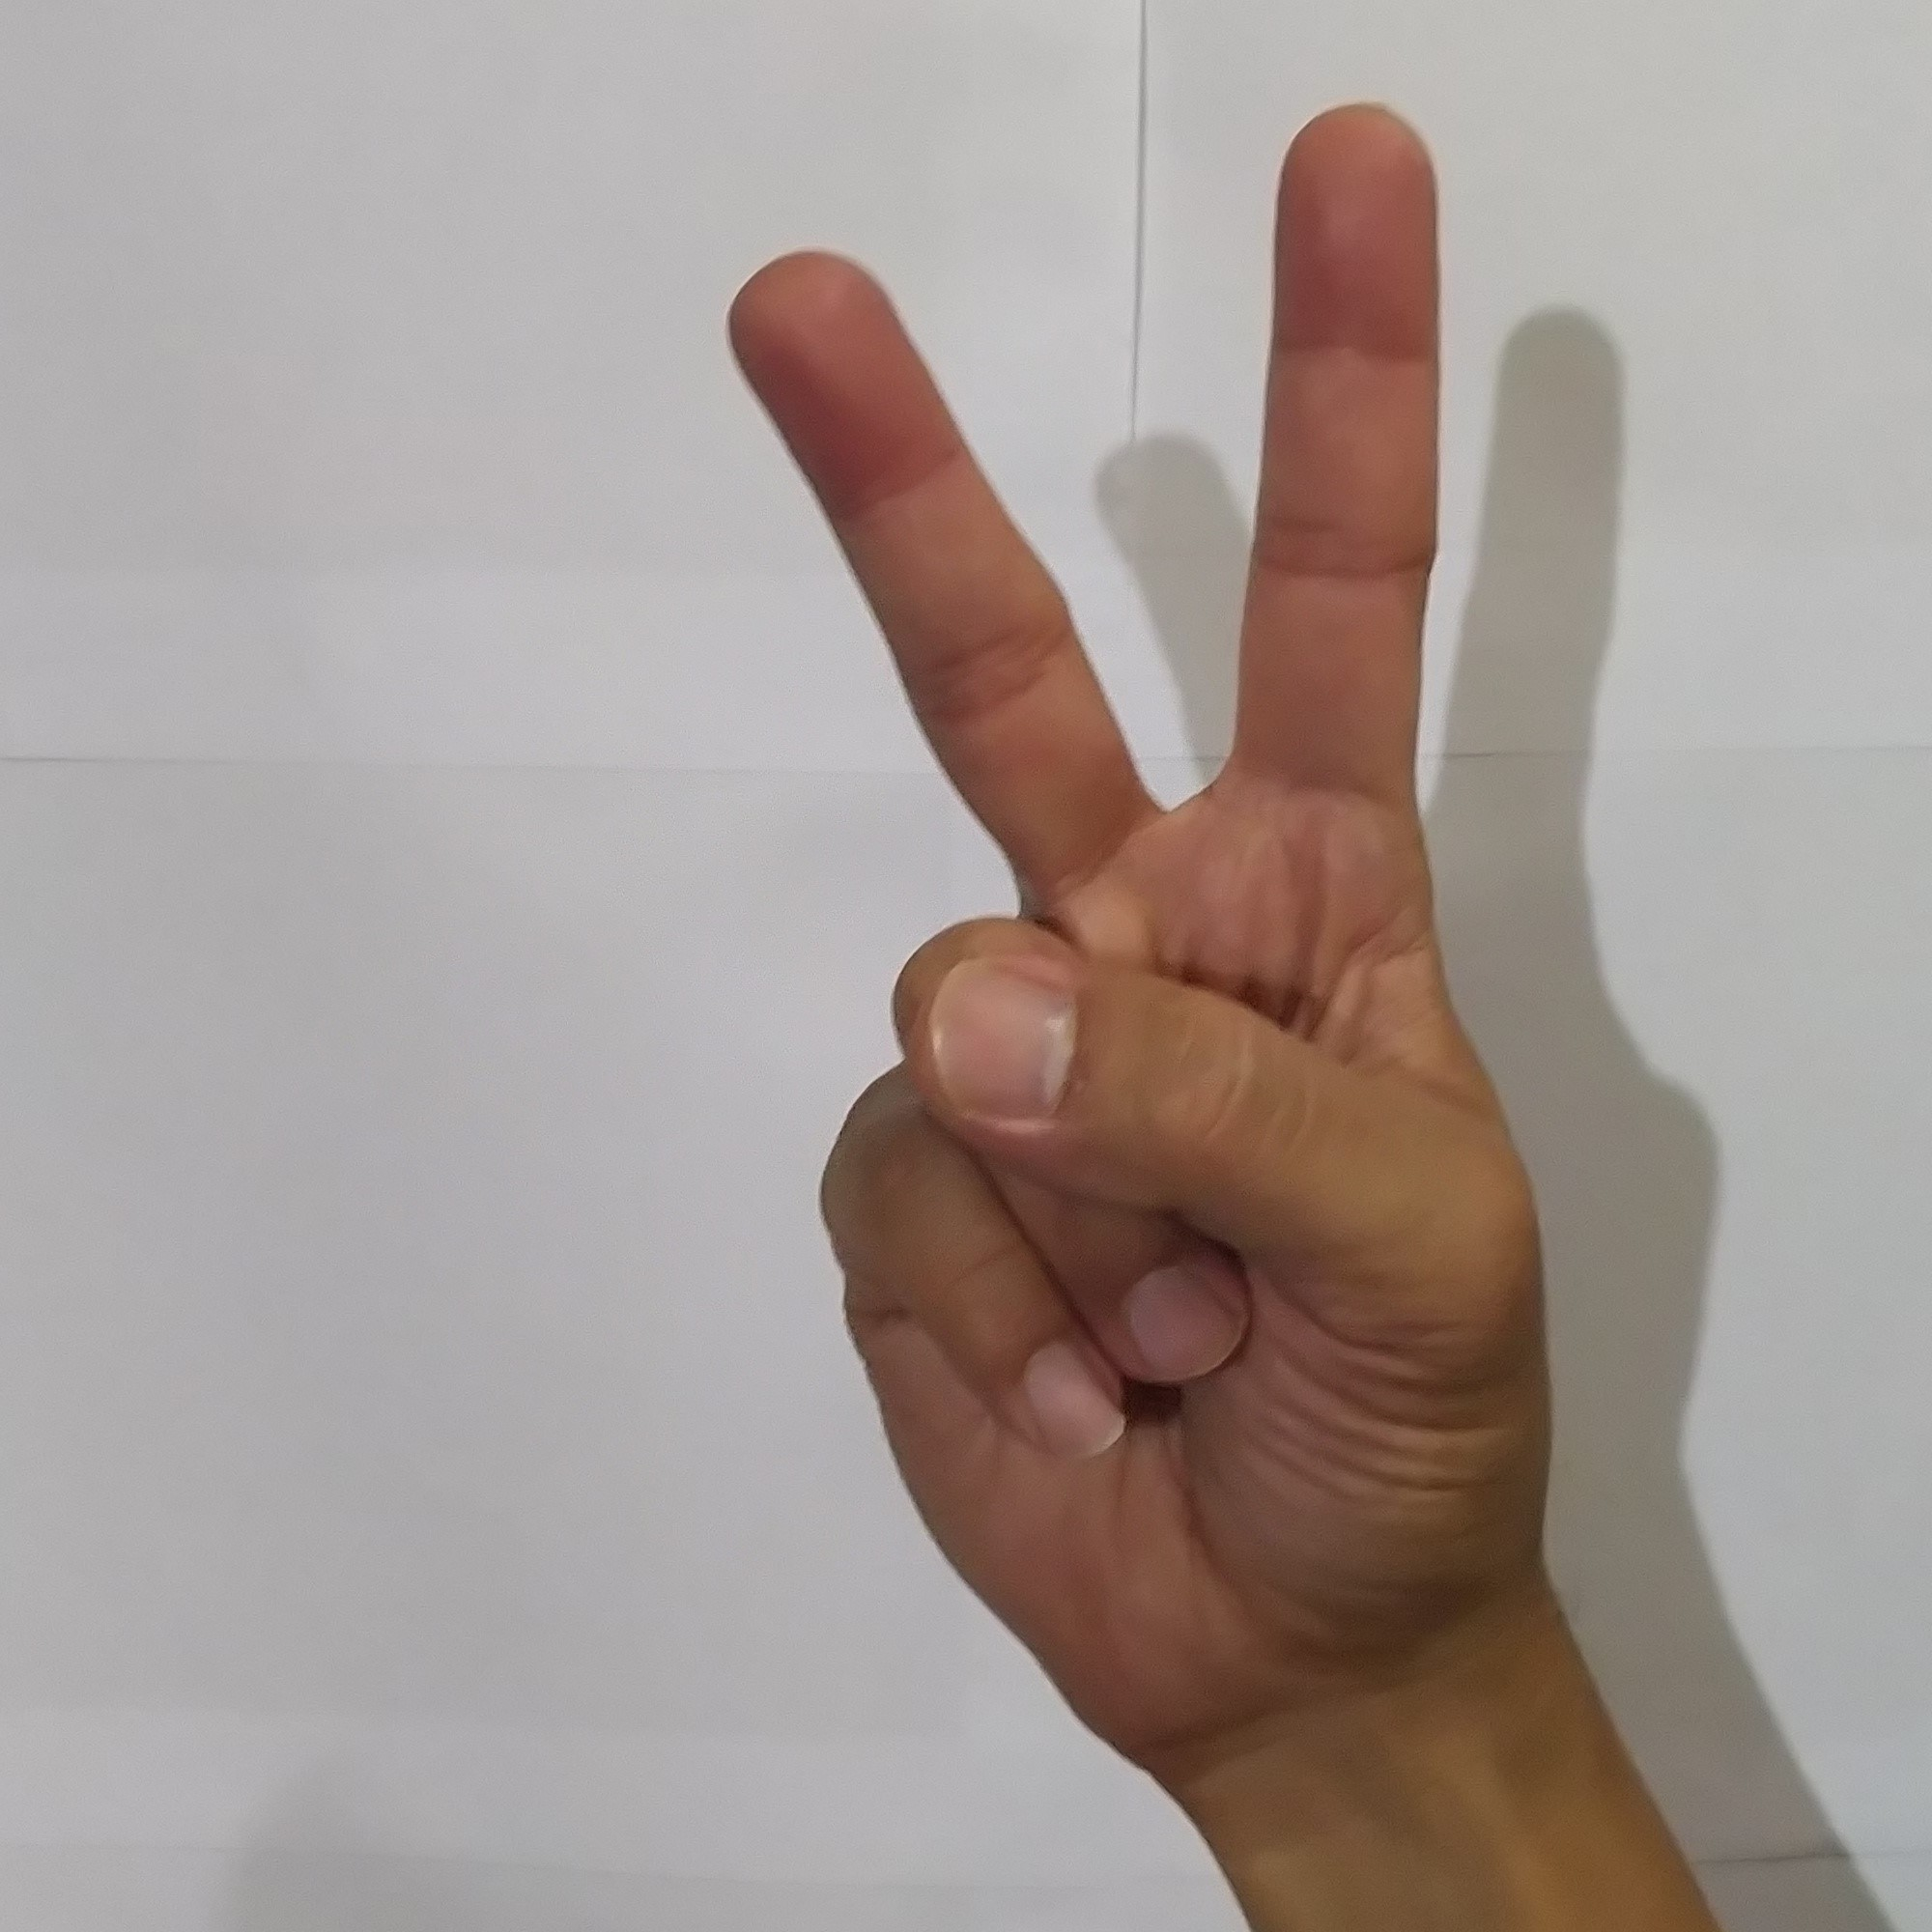V: (699, 80, 1594, 1695)
